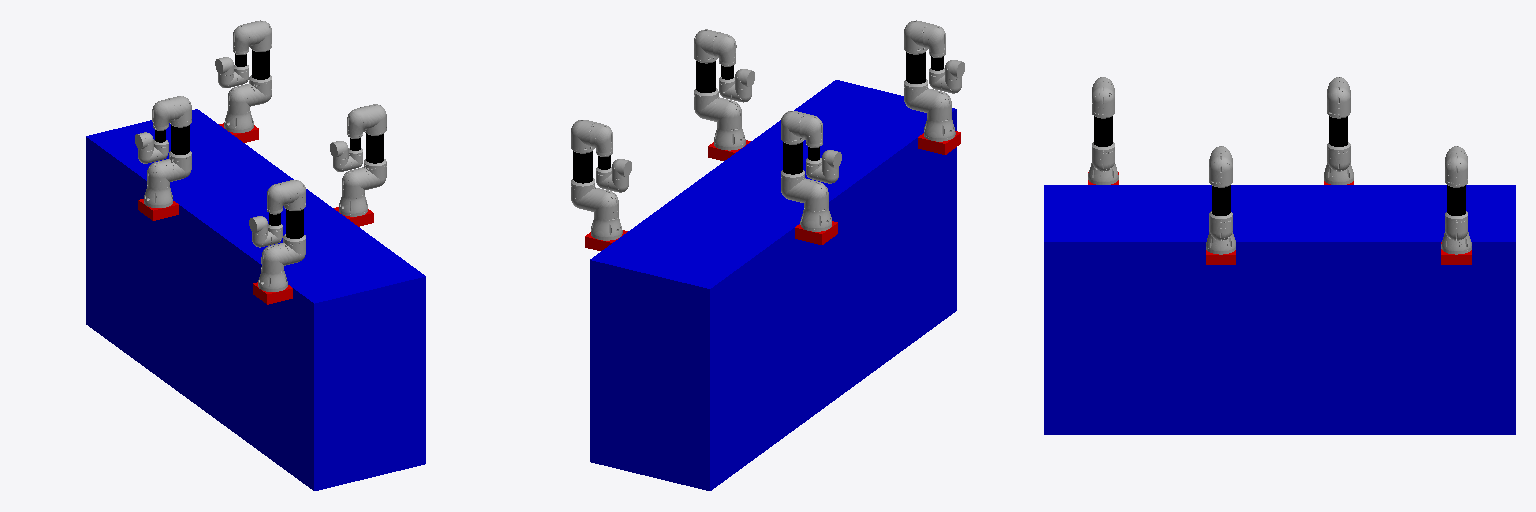
--- Render facts (derived) ---
Views: 3 orthographic renders of the robot side by side, from view 1: azimuth 30°, elevation 25°; view 2: azimuth 150°, elevation 25°; view 3: azimuth 270°, elevation 25°.
Model multiple_crisp with 50 links and 49 joints (24 revolute, 25 fixed), rooted at world, posed all joints at 0.
Visible links, largest first — view 1: conveyor, crisp_2_shoulder_link, crisp_3_shoulder_link, crisp_4_shoulder_link, crisp_1_shoulder_link, crisp_2_elbow_link, crisp_3_elbow_link, crisp_1_elbow_link, crisp_4_elbow_link, crisp_4_base_link, crisp_3_elbow_bend, crisp_1_base_link (+5 smaller); view 2: conveyor, crisp_4_shoulder_link, crisp_3_shoulder_link, crisp_2_shoulder_link, crisp_1_shoulder_link, crisp_1_elbow_link, crisp_2_elbow_link, crisp_4_elbow_link, crisp_3_elbow_link, crisp_3_base_link, crisp_1_base_link, crisp_2_base_link (+11 smaller); view 3: conveyor, crisp_2_elbow_link, crisp_3_elbow_link, crisp_1_elbow_link, crisp_4_elbow_link, crisp_2_shoulder_bend, crisp_3_shoulder_bend, crisp_1_shoulder_bend, crisp_4_shoulder_bend, crisp_3_tube1, crisp_4_tube1, crisp_1_tube1 (+1 smaller).
Link boxes in pixels (left/top/right/bottom): conveyor: left=86, top=109, right=425, bottom=490; crisp_2_shoulder_link: left=342, top=167, right=370, bottom=196; crisp_3_shoulder_link: left=147, top=159, right=175, bottom=187; crisp_4_shoulder_link: left=261, top=243, right=290, bottom=271; crisp_1_shoulder_link: left=228, top=84, right=256, bottom=112; crisp_2_elbow_link: left=360, top=104, right=386, bottom=135; crisp_3_elbow_link: left=168, top=96, right=191, bottom=127; crisp_1_elbow_link: left=247, top=20, right=271, bottom=51; crisp_4_elbow_link: left=282, top=180, right=305, bottom=210; crisp_4_base_link: left=258, top=267, right=287, bottom=291; crisp_3_elbow_bend: left=152, top=99, right=173, bottom=130; crisp_1_base_link: left=224, top=110, right=253, bottom=132; conveyor: left=590, top=80, right=956, bottom=490; crisp_4_shoulder_link: left=921, top=89, right=951, bottom=119; crisp_3_shoulder_link: left=797, top=179, right=828, bottom=209; crisp_2_shoulder_link: left=711, top=97, right=741, bottom=128; crisp_1_shoulder_link: left=588, top=188, right=618, bottom=218; crisp_1_elbow_link: left=571, top=120, right=596, bottom=153; crisp_2_elbow_link: left=694, top=29, right=720, bottom=63; crisp_4_elbow_link: left=904, top=20, right=929, bottom=54; crisp_3_elbow_link: left=781, top=111, right=805, bottom=144; crisp_3_base_link: left=800, top=206, right=831, bottom=231; crisp_1_base_link: left=591, top=215, right=622, bottom=240; crisp_2_base_link: left=714, top=124, right=745, bottom=150; conveyor: left=1044, top=185, right=1515, bottom=434; crisp_2_elbow_link: left=1209, top=150, right=1232, bottom=187; crisp_3_elbow_link: left=1327, top=81, right=1350, bottom=118; crisp_1_elbow_link: left=1445, top=150, right=1467, bottom=187; crisp_4_elbow_link: left=1092, top=81, right=1114, bottom=118; crisp_2_shoulder_bend: left=1209, top=211, right=1232, bottom=240; crisp_3_shoulder_bend: left=1327, top=142, right=1350, bottom=171; crisp_1_shoulder_bend: left=1445, top=211, right=1467, bottom=240; crisp_4_shoulder_bend: left=1092, top=142, right=1114, bottom=171; crisp_3_tube1: left=1329, top=116, right=1347, bottom=146; crisp_4_tube1: left=1094, top=116, right=1112, bottom=146; crisp_1_tube1: left=1447, top=185, right=1465, bottom=215.
Size in the robot's own frame: 0.9549 by 2 by 1.39 metres.
Meshes: 11 distinct files referenced, 40 mesh visuals loaded (10 binary STL); not drawn: 4 (reference not matched to a file when rendering).

The robot description file, URDF, robot "multiple_crisp":
<?xml version="1.0" ?>
<!-- =================================================================================== -->
<!-- |    This document was autogenerated by xacro from [local-path]/workspaces/catkin_ws_2/src/multiple_arm_description/urdf/multiple_crisp.urdf.xacro | -->
<!-- |    EDITING THIS FILE BY HAND IS NOT RECOMMENDED                                 | -->
<!-- =================================================================================== -->
<robot name="multiple_crisp">
    // Include urdf.xacro from respective description packages of arms
    <material name="silver">
        <color rgba="0.700 0.700 0.700 1.000" />
    </material>
    <material name="black">
        <color rgba="0.0 0.0 0.0 1.000" />
    </material>
    <!-- <xacro:include filename="$(find robotiq_85_description)/urdf/robotiq_85_gripper.urdf.xacro" /> -->
    // Specify Proper Prefix names for understanding of different arms.
    <!-- params="prefix joint_limited
      shoulder_pan_lower_limit:=${-pi}    shoulder_pan_upper_limit:=${pi}
      shoulder_lift_lower_limit:=${-pi}    shoulder_lift_upper_limit:=${pi}
      elbow_joint_lower_limit:=${-pi}    elbow_joint_upper_limit:=${pi}
      wrist_1_lower_limit:=${-pi}    wrist_1_upper_limit:=${pi}
      wrist_2_lower_limit:=${-pi}    wrist_2_upper_limit:=${pi}
      wrist_3_lower_limit:=${-pi}    wrist_3_upper_limit:=${pi}
      transmission_hw_interface:=hardware_interface/PositionJointInterface
      safety_limits:=false safety_pos_margin:=0.15
      safety_k_position:=20"> -->
    <link name="crisp_1_base_link">
        <inertial>
            <origin rpy="0 0 0" xyz="0.0001603944729273711 -0.0003290623427609323 0.040147411165435416" />
            <mass value="0.6779611564550755" />
            <inertia ixx="0.001015" ixy="1e-06" ixz="0.0" iyy="0.001028" iyz="-2e-06" izz="0.001154" />
        </inertial>
        <visual>
            <origin rpy="0 0 0" xyz="0 0 0" />
            <geometry>
                <mesh filename="package://crisp_description/meshes/base_link.stl" scale="0.001 0.001 0.001" />
            </geometry>
            <material name="silver" />
        </visual>
        <collision>
            <origin rpy="0 0 0" xyz="0 0 0" />
            <geometry>
                <mesh filename="package://crisp_description/meshes/base_link.stl" scale="0.001 0.001 0.001" />
            </geometry>
        </collision>
    </link>
    <link name="crisp_1_shoulder_link">
        <inertial>
            <origin rpy="0 0 0" xyz="4.0011390054304076e-06 -0.00961982769835694 0.045447590610113775" />
            <mass value="0.4336022449379255" />
            <inertia ixx="0.000648" ixy="-0.0" ixz="-1e-06" iyy="0.000565" iyz="4.1e-05" izz="0.000631" />
        </inertial>
        <visual>
            <origin rpy="0 0 0" xyz="-0.000152 4.1e-05 -0.09" />
            <geometry>
                <mesh filename="package://crisp_description/meshes/shoulder_link.stl" scale="0.001 0.001 0.001" />
            </geometry>
            <material name="silver" />
        </visual>
        <collision>
            <origin rpy="0 0 0" xyz="-0.000152 4.1e-05 -0.09" />
            <geometry>
                <mesh filename="package://crisp_description/meshes/shoulder_link.stl" scale="0.001 0.001 0.001" />
            </geometry>
        </collision>
    </link>
    <link name="crisp_1_shoulder_bend">
        <inertial>
            <origin rpy="0 0 0" xyz="-3.977242232601117e-06 -0.045711629373503385 0.012907149486671848" />
            <mass value="0.24798358553552216" />
            <inertia ixx="0.000406" ixy="-1e-06" ixz="-0.0" iyy="0.000397" iyz="2.6e-05" izz="0.00033" />
        </inertial>
        <visual>
            <origin rpy="0 0 0" xyz="-0.000152 0.060041 -0.14" />
            <geometry>
                <mesh filename="package://crisp_description/meshes/shoulder_bend.stl" scale="0.001 0.001 0.001" />
            </geometry>
            <material name="silver" />
        </visual>
        <collision>
            <origin rpy="0 0 0" xyz="-0.000152 0.060041 -0.14" />
            <geometry>
                <mesh filename="package://crisp_description/meshes/shoulder_bend.stl" scale="0.001 0.001 0.001" />
            </geometry>
        </collision>
    </link>
    <link name="crisp_1_tube1">
        <inertial>
            <origin rpy="0 0 0" xyz="-1.218023921678265e-07 4.832804545162883e-07 0.08400037920452025" />
            <mass value="0.1359760217281118" />
            <inertia ixx="0.000423" ixy="-0.0" ixz="0.0" iyy="0.000423" iyz="0.0" izz="0.000207" />
        </inertial>
        <visual>
            <origin rpy="0 0 0" xyz="-0.000152 0.110042 -0.202" />
            <geometry>
                <mesh filename="package://crisp_description/meshes/tube1.stl" scale="0.001 0.001 0.001" />
            </geometry>
            <material name="black" />
        </visual>
        <collision>
            <origin rpy="0 0 0" xyz="-0.000152 0.110042 -0.202" />
            <geometry>
                <mesh filename="package://crisp_description/meshes/tube1.stl" scale="0.001 0.001 0.001" />
            </geometry>
        </collision>
    </link>
    <link name="crisp_1_elbow_link">
        <inertial>
            <origin rpy="0 0 0" xyz="-3.6405482122238116e-06 0.00835316151743537 0.05001631857596067" />
            <mass value="0.5160292603397482" />
            <inertia ixx="0.000905" ixy="1e-06" ixz="1e-06" iyy="0.000814" iyz="-7.4e-05" izz="0.000756" />
        </inertial>
        <visual>
            <origin rpy="0 0 0" xyz="-0.000152 0.110042 -0.37" />
            <geometry>
                <mesh filename="package://crisp_description/meshes/elbow_link.stl" scale="0.001 0.001 0.001" />
            </geometry>
            <material name="silver" />
        </visual>
        <collision>
            <origin rpy="0 0 0" xyz="-0.000152 0.110042 -0.37" />
            <geometry>
                <mesh filename="package://crisp_description/meshes/elbow_link.stl" scale="0.001 0.001 0.001" />
            </geometry>
        </collision>
    </link>
    <link name="crisp_1_elbow_bend">
        <inertial>
            <origin rpy="0 0 0" xyz="-4.075344323087168e-05 0.03327969273841646 -0.01030636733035839" />
            <mass value="0.16999673358161876" />
            <inertia ixx="0.000221" ixy="-0.0" ixz="0.0" iyy="0.000236" iyz="1.7e-05" izz="0.000146" />
        </inertial>
        <visual>
            <origin rpy="0 0 0" xyz="-0.000152 0.050041 -0.431801" />
            <geometry>
                <mesh filename="package://crisp_description/meshes/elbow_bend.stl" scale="0.001 0.001 0.001" />
            </geometry>
            <material name="silver" />
        </visual>
        <collision>
            <origin rpy="0 0 0" xyz="-0.000152 0.050041 -0.431801" />
            <geometry>
                <mesh filename="package://crisp_description/meshes/elbow_bend.stl" scale="0.001 0.001 0.001" />
            </geometry>
        </collision>
    </link>
    <link name="crisp_1_tube2">
        <inertial>
            <origin rpy="0 0 0" xyz="3.31534666480639e-07 -2.8192269833048067e-07 -0.04549993912254768" />
            <mass value="0.035999481079213504" />
            <inertia ixx="3.5e-05" ixy="0.0" ixz="0.0" iyy="3.5e-05" iyz="0.0" izz="2.1e-05" />
        </inertial>
        <visual>
            <origin rpy="0 0 0" xyz="-0.000111 0.010041 -0.37059" />
            <geometry>
                <mesh filename="package://crisp_description/meshes/tube2.stl" scale="0.001 0.001 0.001" />
            </geometry>
            <material name="black" />
        </visual>
        <collision>
            <origin rpy="0 0 0" xyz="-0.000111 0.010041 -0.37059" />
            <geometry>
                <mesh filename="package://crisp_description/meshes/tube2.stl" scale="0.001 0.001 0.001" />
            </geometry>
        </collision>
    </link>
    <link name="crisp_1_wrist_link1">
        <inertial>
            <origin rpy="0 0 0" xyz="3.272677325775889e-07 0.0029345319652001097 -0.03169306675776801" />
            <mass value="0.2120397644725218" />
            <inertia ixx="0.000175" ixy="-0.0" ixz="0.0" iyy="0.00017" iyz="1.1e-05" izz="0.000139" />
        </inertial>
        <visual>
            <origin rpy="0 0 0" xyz="-0.000111 0.010041 -0.27959" />
            <geometry>
                <mesh filename="package://crisp_description/meshes/wrist_link1.stl" scale="0.001 0.001 0.001" />
            </geometry>
            <material name="silver" />
        </visual>
        <collision>
            <origin rpy="0 0 0" xyz="-0.000111 0.010041 -0.27959" />
            <geometry>
                <mesh filename="package://crisp_description/meshes/wrist_link1.stl" scale="0.001 0.001 0.001" />
            </geometry>
        </collision>
    </link>
    <link name="crisp_1_wrist_link2">
        <inertial>
            <origin rpy="0 0 0" xyz="3.2681919059462765e-07 0.034243790458059184 0.003213444605775856" />
            <mass value="0.17601570721446155" />
            <inertia ixx="0.000126" ixy="0.0" ixz="-0.0" iyy="0.000112" iyz="-8e-06" izz="0.000122" />
        </inertial>
        <visual>
            <origin rpy="0 0 0" xyz="-0.000111 -0.024859 -0.23859" />
            <geometry>
                <mesh filename="package://crisp_description/meshes/wrist_link2.stl" scale="0.001 0.001 0.001" />
            </geometry>
            <material name="silver" />
        </visual>
        <collision>
            <origin rpy="0 0 0" xyz="-0.000111 -0.024859 -0.23859" />
            <geometry>
                <mesh filename="package://crisp_description/meshes/wrist_link2.stl" scale="0.001 0.001 0.001" />
            </geometry>
        </collision>
    </link>
    <link name="crisp_1_wrist_link3">
        <inertial>
            <origin rpy="0 0 0" xyz="3.328659660357594e-07 0.003213090953286188 0.03424415588268198" />
            <mass value="0.17601599196961085" />
            <inertia ixx="0.000126" ixy="0.0" ixz="-0.0" iyy="0.000122" iyz="-8e-06" izz="0.000112" />
        </inertial>
        <visual>
            <origin rpy="0 0 0" xyz="-0.000111 -0.064859 -0.27349" />
            <geometry>
                <mesh filename="package://crisp_description/meshes/wrist_link3.stl" scale="0.001 0.001 0.001" />
            </geometry>
            <material name="silver" />
        </visual>
        <collision>
            <origin rpy="0 0 0" xyz="-0.000111 -0.064859 -0.27349" />
            <geometry>
                <mesh filename="package://crisp_description/meshes/wrist_link3.stl" scale="0.001 0.001 0.001" />
            </geometry>
        </collision>
    </link>
    <link name="crisp_1_ee_mount">
        <inertial>
            <origin rpy="0 0 0" xyz="3.3153611991382443e-07 0.0048156835739818354 6.80155745613753e-08" />
            <mass value="0.025997600599102062" />
            <inertia ixx="9e-06" ixy="0.0" ixz="-0.0" iyy="1.7e-05" iyz="0.0" izz="8e-06" />
        </inertial>
        <visual>
            <origin rpy="0 0 0" xyz="-0.000111 -0.099859 -0.31349" />
            <geometry>
                <mesh filename="package://crisp_description/meshes/ee_mount.stl" scale="0.001 0.001 0.001" />
            </geometry>
            <material name="silver" />
        </visual>
        <collision>
            <origin rpy="0 0 0" xyz="-0.000111 -0.099859 -0.31349" />
            <geometry>
                <mesh filename="package://crisp_description/meshes/ee_mount.stl" scale="0.001 0.001 0.001" />
            </geometry>
        </collision>
    </link>
    <joint name="crisp_1_j1" type="revolute">
        <origin rpy="0 0 0" xyz="0.000152 -4.1e-05 0.09" />
        <parent link="crisp_1_base_link" />
        <child link="crisp_1_shoulder_link" />
        <axis xyz="0.0 0.0 1.0" />
        <limit effort="9.2" lower="-6.283185307179586" upper="6.283185307179586" velocity="3.5" />
    </joint>
    <joint name="crisp_1_j2" type="revolute">
        <origin rpy="0 0 0" xyz="0.0 -0.06 0.05" />
        <parent link="crisp_1_shoulder_link" />
        <child link="crisp_1_shoulder_bend" />
        <axis xyz="0.0 -1.0 -0.0" />
        <limit effort="9.2" lower="-6.283185307179586" upper="6.283185307179586" velocity="3.5" />
    </joint>
    <joint name="crisp_1_Rigid 5" type="fixed">
        <origin rpy="0 0 0" xyz="0.0 -0.050001 0.062" />
        <parent link="crisp_1_shoulder_bend" />
        <child link="crisp_1_tube1" />
    </joint>
    <joint name="crisp_1_Rigid 6" type="fixed">
        <origin rpy="0 0 0" xyz="0.0 0.0 0.168" />
        <parent link="crisp_1_tube1" />
        <child link="crisp_1_elbow_link" />
    </joint>
    <joint name="crisp_1_j3" type="revolute">
        <origin rpy="0 0 0" xyz="0.0 0.060001 0.061801" />
        <parent link="crisp_1_elbow_link" />
        <child link="crisp_1_elbow_bend" />
        <axis xyz="-0.0 1.0 0.0" />
        <limit effort="9.2" lower="-6.283185307179586" upper="6.283185307179586" velocity="3.5" />
    </joint>
    <joint name="crisp_1_Rigid 8" type="fixed">
        <origin rpy="0 0 0" xyz="-4.1e-05 0.04 -0.061211" />
        <parent link="crisp_1_elbow_bend" />
        <child link="crisp_1_tube2" />
    </joint>
    <joint name="crisp_1_Rigid 9" type="fixed">
        <origin rpy="0 0 0" xyz="0.0 0.0 -0.091" />
        <parent link="crisp_1_tube2" />
        <child link="crisp_1_wrist_link1" />
    </joint>
    <joint name="crisp_1_j4" type="revolute">
        <origin rpy="0 0 0" xyz="0.0 0.0349 -0.041" />
        <parent link="crisp_1_wrist_link1" />
        <child link="crisp_1_wrist_link2" />
        <axis xyz="-0.0 1.0 0.0" />
        <limit effort="3.3" lower="-6.283185307179586" upper="6.283185307179586" velocity="3.2" />
    </joint>
    <joint name="crisp_1_j5" type="revolute">
        <origin rpy="0 0 0" xyz="0.0 0.04 0.0349" />
        <parent link="crisp_1_wrist_link2" />
        <child link="crisp_1_wrist_link3" />
        <axis xyz="-0.0 0.0 1.0" />
        <limit effort="3.3" lower="-6.283185307179586" upper="6.283185307179586" velocity="3.2" />
    </joint>
    <joint name="crisp_1_j6" type="revolute">
        <origin rpy="0 0 0" xyz="0.0 0.035 0.04" />
        <parent link="crisp_1_wrist_link3" />
        <child link="crisp_1_ee_mount" />
        <axis xyz="-0.0 -1.0 -0.0" />
        <limit effort="3.3" lower="-6.283185307179586" upper="6.283185307179586" velocity="3.2" />
    </joint>
    <!-- params="prefix joint_limited
      shoulder_pan_lower_limit:=${-pi}    shoulder_pan_upper_limit:=${pi}
      shoulder_lift_lower_limit:=${-pi}    shoulder_lift_upper_limit:=${pi}
      elbow_joint_lower_limit:=${-pi}    elbow_joint_upper_limit:=${pi}
      wrist_1_lower_limit:=${-pi}    wrist_1_upper_limit:=${pi}
      wrist_2_lower_limit:=${-pi}    wrist_2_upper_limit:=${pi}
      wrist_3_lower_limit:=${-pi}    wrist_3_upper_limit:=${pi}
      transmission_hw_interface:=hardware_interface/PositionJointInterface
      safety_limits:=false safety_pos_margin:=0.15
      safety_k_position:=20"> -->
    <link name="crisp_2_base_link">
        <inertial>
            <origin rpy="0 0 0" xyz="0.0001603944729273711 -0.0003290623427609323 0.040147411165435416" />
            <mass value="0.6779611564550755" />
            <inertia ixx="0.001015" ixy="1e-06" ixz="0.0" iyy="0.001028" iyz="-2e-06" izz="0.001154" />
        </inertial>
        <visual>
            <origin rpy="0 0 0" xyz="0 0 0" />
            <geometry>
                <mesh filename="package://crisp_description/meshes/base_link.stl" scale="0.001 0.001 0.001" />
            </geometry>
            <material name="silver" />
        </visual>
        <collision>
            <origin rpy="0 0 0" xyz="0 0 0" />
            <geometry>
                <mesh filename="package://crisp_description/meshes/base_link.stl" scale="0.001 0.001 0.001" />
            </geometry>
        </collision>
    </link>
    <link name="crisp_2_shoulder_link">
        <inertial>
            <origin rpy="0 0 0" xyz="4.0011390054304076e-06 -0.00961982769835694 0.045447590610113775" />
            <mass value="0.4336022449379255" />
            <inertia ixx="0.000648" ixy="-0.0" ixz="-1e-06" iyy="0.000565" iyz="4.1e-05" izz="0.000631" />
        </inertial>
        <visual>
            <origin rpy="0 0 0" xyz="-0.000152 4.1e-05 -0.09" />
            <geometry>
                <mesh filename="package://crisp_description/meshes/shoulder_link.stl" scale="0.001 0.001 0.001" />
            </geometry>
            <material name="silver" />
        </visual>
        <collision>
            <origin rpy="0 0 0" xyz="-0.000152 4.1e-05 -0.09" />
            <geometry>
                <mesh filename="package://crisp_description/meshes/shoulder_link.stl" scale="0.001 0.001 0.001" />
            </geometry>
        </collision>
    </link>
    <link name="crisp_2_shoulder_bend">
        <inertial>
            <origin rpy="0 0 0" xyz="-3.977242232601117e-06 -0.045711629373503385 0.012907149486671848" />
            <mass value="0.24798358553552216" />
            <inertia ixx="0.000406" ixy="-1e-06" ixz="-0.0" iyy="0.000397" iyz="2.6e-05" izz="0.00033" />
        </inertial>
        <visual>
            <origin rpy="0 0 0" xyz="-0.000152 0.060041 -0.14" />
            <geometry>
                <mesh filename="package://crisp_description/meshes/shoulder_bend.stl" scale="0.001 0.001 0.001" />
            </geometry>
            <material name="silver" />
        </visual>
        <collision>
            <origin rpy="0 0 0" xyz="-0.000152 0.060041 -0.14" />
            <geometry>
                <mesh filename="package://crisp_description/meshes/shoulder_bend.stl" scale="0.001 0.001 0.001" />
            </geometry>
        </collision>
    </link>
    <link name="crisp_2_tube1">
        <inertial>
            <origin rpy="0 0 0" xyz="-1.218023921678265e-07 4.832804545162883e-07 0.08400037920452025" />
            <mass value="0.1359760217281118" />
            <inertia ixx="0.000423" ixy="-0.0" ixz="0.0" iyy="0.000423" iyz="0.0" izz="0.000207" />
        </inertial>
        <visual>
            <origin rpy="0 0 0" xyz="-0.000152 0.110042 -0.202" />
            <geometry>
                <mesh filename="package://crisp_description/meshes/tube1.stl" scale="0.001 0.001 0.001" />
            </geometry>
            <material name="black" />
        </visual>
        <collision>
            <origin rpy="0 0 0" xyz="-0.000152 0.110042 -0.202" />
            <geometry>
                <mesh filename="package://crisp_description/meshes/tube1.stl" scale="0.001 0.001 0.001" />
            </geometry>
        </collision>
    </link>
    <link name="crisp_2_elbow_link">
        <inertial>
            <origin rpy="0 0 0" xyz="-3.6405482122238116e-06 0.00835316151743537 0.05001631857596067" />
            <mass value="0.5160292603397482" />
            <inertia ixx="0.000905" ixy="1e-06" ixz="1e-06" iyy="0.000814" iyz="-7.4e-05" izz="0.000756" />
        </inertial>
        <visual>
            <origin rpy="0 0 0" xyz="-0.000152 0.110042 -0.37" />
            <geometry>
                <mesh filename="package://crisp_description/meshes/elbow_link.stl" scale="0.001 0.001 0.001" />
            </geometry>
            <material name="silver" />
        </visual>
        <collision>
            <origin rpy="0 0 0" xyz="-0.000152 0.110042 -0.37" />
            <geometry>
                <mesh filename="package://crisp_description/meshes/elbow_link.stl" scale="0.001 0.001 0.001" />
            </geometry>
        </collision>
    </link>
    <link name="crisp_2_elbow_bend">
        <inertial>
            <origin rpy="0 0 0" xyz="-4.075344323087168e-05 0.03327969273841646 -0.01030636733035839" />
            <mass value="0.16999673358161876" />
            <inertia ixx="0.000221" ixy="-0.0" ixz="0.0" iyy="0.000236" iyz="1.7e-05" izz="0.000146" />
        </inertial>
        <visual>
            <origin rpy="0 0 0" xyz="-0.000152 0.050041 -0.431801" />
            <geometry>
                <mesh filename="package://crisp_description/meshes/elbow_bend.stl" scale="0.001 0.001 0.001" />
            </geometry>
            <material name="silver" />
        </visual>
        <collision>
            <origin rpy="0 0 0" xyz="-0.000152 0.050041 -0.431801" />
            <geometry>
                <mesh filename="package://crisp_description/meshes/elbow_bend.stl" scale="0.001 0.001 0.001" />
            </geometry>
        </collision>
    </link>
    <link name="crisp_2_tube2">
        <inertial>
            <origin rpy="0 0 0" xyz="3.31534666480639e-07 -2.8192269833048067e-07 -0.04549993912254768" />
            <mass value="0.035999481079213504" />
            <inertia ixx="3.5e-05" ixy="0.0" ixz="0.0" iyy="3.5e-05" iyz="0.0" izz="2.1e-05" />
        </inertial>
        <visual>
            <origin rpy="0 0 0" xyz="-0.000111 0.010041 -0.37059" />
            <geometry>
                <mesh filename="package://crisp_description/meshes/tube2.stl" scale="0.001 0.001 0.001" />
            </geometry>
            <material name="black" />
        </visual>
        <collision>
            <origin rpy="0 0 0" xyz="-0.000111 0.010041 -0.37059" />
            <geometry>
                <mesh filename="package://crisp_description/meshes/tube2.stl" scale="0.001 0.001 0.001" />
            </geometry>
        </collision>
    </link>
    <link name="crisp_2_wrist_link1">
        <inertial>
            <origin rpy="0 0 0" xyz="3.272677325775889e-07 0.0029345319652001097 -0.03169306675776801" />
            <mass value="0.2120397644725218" />
            <inertia ixx="0.000175" ixy="-0.0" ixz="0.0" iyy="0.00017" iyz="1.1e-05" izz="0.000139" />
        </inertial>
        <visual>
            <origin rpy="0 0 0" xyz="-0.000111 0.010041 -0.27959" />
            <geometry>
                <mesh filename="package://crisp_description/meshes/wrist_link1.stl" scale="0.001 0.001 0.001" />
            </geometry>
            <material name="silver" />
        </visual>
        <collision>
            <origin rpy="0 0 0" xyz="-0.000111 0.010041 -0.27959" />
            <geometry>
                <mesh filename="package://crisp_description/meshes/wrist_link1.stl" scale="0.001 0.001 0.001" />
            </geometry>
        </collision>
    </link>
    <link name="crisp_2_wrist_link2">
        <inertial>
            <origin rpy="0 0 0" xyz="3.2681919059462765e-07 0.034243790458059184 0.003213444605775856" />
            <mass value="0.17601570721446155" />
            <inertia ixx="0.000126" ixy="0.0" ixz="-0.0" iyy="0.000112" iyz="-8e-06" izz="0.000122" />
        </inertial>
        <visual>
            <origin rpy="0 0 0" xyz="-0.000111 -0.024859 -0.23859" />
            <geometry>
                <mesh filename="package://crisp_description/meshes/wrist_link2.stl" scale="0.001 0.001 0.001" />
            </geometry>
            <material name="silver" />
        </visual>
        <collision>
            <origin rpy="0 0 0" xyz="-0.000111 -0.024859 -0.23859" />
            <geometry>
                <mesh filename="package://crisp_description/meshes/wrist_link2.stl" scale="0.001 0.001 0.001" />
            </geometry>
        </collision>
    </link>
    <link name="crisp_2_wrist_link3">
        <inertial>
            <origin rpy="0 0 0" xyz="3.328659660357594e-07 0.003213090953286188 0.03424415588268198" />
            <mass value="0.17601599196961085" />
            <inertia ixx="0.000126" ixy="0.0" ixz="-0.0" iyy="0.000122" iyz="-8e-06" izz="0.000112" />
        </inertial>
        <visual>
            <origin rpy="0 0 0" xyz="-0.000111 -0.064859 -0.27349" />
            <geometry>
                <mesh filename="package://crisp_description/meshes/wrist_link3.stl" scale="0.001 0.001 0.001" />
            </geometry>
            <material name="silver" />
        </visual>
        <collision>
            <origin rpy="0 0 0" xyz="-0.000111 -0.064859 -0.27349" />
            <geometry>
                <mesh filename="package://crisp_description/meshes/wrist_link3.stl" scale="0.001 0.001 0.001" />
            </geometry>
        </collision>
    </link>
    <link name="crisp_2_ee_mount">
        <inertial>
            <origin rpy="0 0 0" xyz="3.3153611991382443e-07 0.0048156835739818354 6.80155745613753e-08" />
            <mass value="0.025997600599102062" />
            <inertia ixx="9e-06" ixy="0.0" ixz="-0.0" iyy="1.7e-05" iyz="0.0" izz="8e-06" />
        </inertial>
        <visual>
            <origin rpy="0 0 0" xyz="-0.000111 -0.099859 -0.31349" />
            <geometry>
                <mesh filename="package://crisp_description/meshes/ee_mount.stl" scale="0.001 0.001 0.001" />
            </geometry>
            <material name="silver" />
        </visual>
        <collision>
            <origin rpy="0 0 0" xyz="-0.000111 -0.099859 -0.31349" />
            <geometry>
                <mesh filename="package://crisp_description/meshes/ee_mount.stl" scale="0.001 0.001 0.001" />
            </geometry>
        </collision>
    </link>
    <joint name="crisp_2_j1" type="revolute">
        <origin rpy="0 0 0" xyz="0.000152 -4.1e-05 0.09" />
        <parent link="crisp_2_base_link" />
        <child link="crisp_2_shoulder_link" />
        <axis xyz="0.0 0.0 1.0" />
        <limit effort="9.2" lower="-6.283185307179586" upper="6.283185307179586" velocity="3.5" />
    </joint>
    <joint name="crisp_2_j2" type="revolute">
        <origin rpy="0 0 0" xyz="0.0 -0.06 0.05" />
        <parent link="crisp_2_shoulder_link" />
        <child link="crisp_2_shoulder_bend" />
        <axis xyz="0.0 -1.0 -0.0" />
        <limit effort="9.2" lower="-6.283185307179586" upper="6.283185307179586" velocity="3.5" />
    </joint>
    <joint name="crisp_2_Rigid 5" type="fixed">
        <origin rpy="0 0 0" xyz="0.0 -0.050001 0.062" />
        <parent link="crisp_2_shoulder_bend" />
        <child link="crisp_2_tube1" />
    </joint>
    <joint name="crisp_2_Rigid 6" type="fixed">
        <origin rpy="0 0 0" xyz="0.0 0.0 0.168" />
        <parent link="crisp_2_tube1" />
        <child link="crisp_2_elbow_link" />
    </joint>
    <joint name="crisp_2_j3" type="revolute">
        <origin rpy="0 0 0" xyz="0.0 0.060001 0.061801" />
        <parent link="crisp_2_elbow_link" />
        <child link="crisp_2_elbow_bend" />
        <axis xyz="-0.0 1.0 0.0" />
        <limit effort="9.2" lower="-6.283185307179586" upper="6.283185307179586" velocity="3.5" />
    </joint>
    <joint name="crisp_2_Rigid 8" type="fixed">
        <origin rpy="0 0 0" xyz="-4.1e-05 0.04 -0.061211" />
        <parent link="crisp_2_elbow_bend" />
        <child link="crisp_2_tube2" />
    </joint>
    <joint name="crisp_2_Rigid 9" type="fixed">
        <origin rpy="0 0 0" xyz="0.0 0.0 -0.091" />
        <parent link="crisp_2_tube2" />
        <child link="crisp_2_wrist_link1" />
    </joint>
    <joint name="crisp_2_j4" type="revolute">
        <origin rpy="0 0 0" xyz="0.0 0.0349 -0.041" />
        <parent link="crisp_2_wrist_link1" />
        <child link="crisp_2_wrist_link2" />
        <axis xyz="-0.0 1.0 0.0" />
        <limit effort="3.3" lower="-6.283185307179586" upper="6.283185307179586" velocity="3.2" />
    </joint>
    <joint name="crisp_2_j5" type="revolute">
        <origin rpy="0 0 0" xyz="0.0 0.04 0.0349" />
        <parent link="crisp_2_wrist_link2" />
        <child link="crisp_2_wrist_link3" />
        <axis xyz="-0.0 0.0 1.0" />
        <limit effort="3.3" lower="-6.283185307179586" upper="6.283185307179586" velocity="3.2" />
    </joint>
    <joint name="crisp_2_j6" type="revolute">
        <origin rpy="0 0 0" xyz="0.0 0.035 0.04" />
        <parent link="crisp_2_wrist_link3" />
        <child link="crisp_2_ee_mount" />
        <axis xyz="-0.0 -1.0 -0.0" />
        <limit effort="3.3" lower="-6.283185307179586" upper="6.283185307179586" velocity="3.2" />
    </joint>
    <!-- params="prefix joint_limited
      shoulder_pan_lower_limit:=${-pi}    shoulder_pan_upper_limit:=${pi}
      shoulder_lift_lower_limit:=${-pi}    shoulder_lift_upper_limit:=${pi}
      elbow_joint_lower_limit:=${-pi}    elbow_joint_upper_limit:=${pi}
      wrist_1_lower_limit:=${-pi}    wrist_1_upper_limit:=${pi}
      wrist_2_lower_limit:=${-pi}    wrist_2_upper_limit:=${pi}
      wrist_3_lower_limit:=${-pi}    wrist_3_upper_limit:=${pi}
      transmission_hw_interface:=hardware_interface/PositionJointInterface
      safety_limits:=false safety_pos_margin:=0.15
      safety_k_position:=20"> -->
    <link name="crisp_3_base_link">
        <inertial>
            <origin rpy="0 0 0" xyz="0.0001603944729273711 -0.0003290623427609323 0.040147411165435416" />
            <mass value="0.6779611564550755" />
            <inertia ixx="0.001015" ixy="1e-06" ixz="0.0" iyy="0.001028" iyz="-2e-06" izz="0.001154" />
        </inertial>
        <visual>
            <origin rpy="0 0 0" xyz="0 0 0" />
            <geometry>
                <mesh filename="package://crisp_description/meshes/base_link.stl" scale="0.001 0.001 0.001" />
            </geometry>
            <material name="silver" />
        </visual>
        <collision>
            <origin rpy="0 0 0" xyz="0 0 0" />
            <geometry>
                <mesh filename="package://crisp_description/meshes/base_link.stl" scale="0.001 0.001 0.001" />
            </geometry>
        </collision>
    </link>
    <link name="crisp_3_shoulder_link">
        <inertial>
            <origin rpy="0 0 0" xyz="4.0011390054304076e-06 -0.00961982769835694 0.045447590610113775" />
            <mass value="0.4336022449379255" />
            <inertia ixx="0.000648" ixy="-0.0" ixz="-1e-06" iyy="0.000565" iyz="4.1e-05" izz="0.000631" />
        </inertial>
        <visual>
            <origin rpy="0 0 0" xyz="-0.000152 4.1e-05 -0.09" />
            <geometry>
                <mesh filename="package://crisp_description/meshes/shoulder_link.stl" scale="0.001 0.001 0.001" />
            </geometry>
            <material name="silver" />
        </visual>
        <collision>
            <origin rpy="0 0 0" xyz="-0.000152 4.1e-05 -0.09" />
            <geometry>
                <mesh filename="package://crisp_description/meshes/shoulder_link.stl" scale="0.001 0.001 0.001" />
            </geometry>
        </collision>
    </link>
    <link name="crisp_3_shoulder_bend">
        <inertial>
            <origin rpy="0 0 0" xyz="-3.977242232601117e-06 -0.045711629373503385 0.012907149486671848" />
            <mass value="0.24798358553552216" />
            <inertia ixx="0.000406" ixy="-1e-06" ixz="-0.0" iyy="0.000397" iyz="2.6e-05" izz="0.00033" />
        </inertial>
        <visual>
            <origin rpy="0 0 0" xyz="-0.000152 0.060041 -0.14" />
            <geometry>
                <mesh filename="package://crisp_description/meshes/shoulder_bend.stl" scale="0.001 0.001 0.001" />
            </geometry>
            <material name="silver" />
        </visual>
        <collision>
            <origin rpy="0 0 0" xyz="-0.000152 0.060041 -0.14" />
            <geometry>
                <mesh filename="package://crisp_description/meshes/shoulder_bend.stl" scale="0.001 0.001 0.001" />
            </geometry>
        </collision>
    </link>
    <link name="crisp_3_tube1">
        <inertial>
            <origin rpy="0 0 0" xyz="-1.218023921678265e-07 4.832804545162883e-07 0.08400037920452025" />
            <mass value="0.1359760217281118" />
            <inertia ixx="0.000423" ixy="-0.0" ixz="0.0" iyy="0.000423" iyz="0.0" izz="0.000207" />
        </inertial>
        <visual>
            <origin rpy="0 0 0" xyz="-0.000152 0.110042 -0.202" />
            <geometry>
                <mesh filename="package://crisp_description/meshes/tube1.stl" scale="0.001 0.001 0.001" />
            </geometry>
            <material name="black" />
        </visual>
        <collision>
            <origin rpy="0 0 0" xyz="-0.000152 0.110042 -0.202" />
            <geometry>
                <mesh filename="package://crisp_description/meshes/tube1.stl" scale="0.001 0.001 0.001" />
            </geometry>
        </collision>
    </link>
    <link name="crisp_3_elbow_link">
        <inertial>
            <origin rpy="0 0 0" xyz="-3.6405482122238116e-06 0.00835316151743537 0.05001631857596067" />
            <mass value="0.5160292603397482" />
            <inertia ixx="0.000905" ixy="1e-06" ixz="1e-06" iyy="0.000814" iyz="-7.4e-05" izz="0.000756" />
        </inertial>
        <visual>
            <origin rpy="0 0 0" xyz="-0.000152 0.110042 -0.37" />
            <geometry>
                <mesh filename="package://crisp_description/meshes/elbow_link.stl" scale="0.001 0.001 0.001" />
            </geometry>
            <material name="silver" />
        </visual>
        <collision>
            <origin rpy="0 0 0" xyz="-0.000152 0.110042 -0.37" />
            <geometry>
                <mesh filename="package://crisp_description/meshes/elbow_link.stl" scale="0.001 0.001 0.001" />
            </geometry>
        </collision>
    </link>
    <link name="crisp_3_elbow_bend">
        <inertial>
            <origin rpy="0 0 0" xyz="-4.075344323087168e-05 0.03327969273841646 -0.01030636733035839" />
            <mass value="0.16999673358161876" />
            <inertia ixx="0.000221" ixy="-0.0" ixz="0.0" iyy="0.000236" iyz="1.7e-05" izz="0.000146" />
        </inertial>
        <visual>
            <origin rpy="0 0 0" xyz="-0.000152 0.050041 -0.431801" />
            <geometry>
                <mesh filename="package://crisp_description/meshes/elbow_bend.stl" scale="0.001 0.001 0.001" />
            </geometry>
            <material name="silver" />
        </visual>
        <collision>
            <origin rpy="0 0 0" xyz="-0.000152 0.050041 -0.431801" />
            <geometry>
                <mesh filename="package://crisp_description/meshes/elbow_bend.stl" scale="0.001 0.001 0.001" />
            </geometry>
        </collision>
    </link>
    <link name="crisp_3_tube2">
        <inertial>
            <origin rpy="0 0 0" xyz="3.31534666480639e-07 -2.8192269833048067e-07 -0.04549993912254768" />
            <mass value="0.035999481079213504" />
            <inertia ixx="3.5e-05" ixy="0.0" ixz="0.0" iyy="3.5e-05" iyz="0.0" izz="2.1e-05" />
        </inertial>
        <visual>
            <origin rpy="0 0 0" xyz="-0.000111 0.010041 -0.37059" />
            <geometry>
                <mesh filename="package://crisp_description/meshes/tube2.stl" scale="0.001 0.001 0.001" />
            </geometry>
            <material name="black" />
        </visual>
        <collision>
            <origin rpy="0 0 0" xyz="-0.000111 0.010041 -0.37059" />
            <geometry>
                <mesh filename="package://crisp_description/meshes/tube2.stl" scale="0.001 0.001 0.001" />
            </geometry>
        </collision>
    </link>
    <link name="crisp_3_wrist_link1">
        <inertial>
            <origin rpy="0 0 0" xyz="3.272677325775889e-07 0.0029345319652001097 -0.03169306675776801" />
            <mass value="0.2120397644725218" />
            <inertia ixx="0.000175" ixy="-0.0" ixz="0.0" iyy="0.00017" iyz="1.1e-05" izz="0.000139" />
        </inertial>
        <visual>
            <origin rpy="0 0 0" xyz="-0.000111 0.010041 -0.27959" />
            <geometry>
                <mesh filename="package://crisp_description/meshes/wrist_link1.stl" scale="0.001 0.001 0.001" />
            </geometry>
            <material name="silver" />
        </visual>
        <collision>
            <origin rpy="0 0 0" xyz="-0.000111 0.010041 -0.27959" />
            <geometry>
                <mesh filename="package://crisp_description/meshes/wrist_link1.stl" scale="0.001 0.001 0.001" />
            </geometry>
        </collision>
    </link>
    <link name="crisp_3_wrist_link2">
        <inertial>
            <origin rpy="0 0 0" xyz="3.2681919059462765e-07 0.034243790458059184 0.003213444605775856" />
            <mass value="0.17601570721446155" />
            <inertia ixx="0.000126" ixy="0.0" ixz="-0.0" iyy="0.000112" iyz="-8e-06" izz="0.000122" />
        </inertial>
        <visual>
            <origin rpy="0 0 0" xyz="-0.000111 -0.024859 -0.23859" />
            <geometry>
                <mesh filename="package://crisp_description/meshes/wrist_link2.stl" scale="0.001 0.001 0.001" />
            </geometry>
            <material name="silver" />
        </visual>
        <collision>
            <origin rpy="0 0 0" xyz="-0.000111 -0.024859 -0.23859" />
            <geometry>
                <mesh filename="package://crisp_description/meshes/wrist_link2.stl" scale="0.001 0.001 0.001" />
            </geometry>
        </collision>
    </link>
    <link name="crisp_3_wrist_link3">
        <inertial>
            <origin rpy="0 0 0" xyz="3.328659660357594e-07 0.003213090953286188 0.03424415588268198" />
            <mass value="0.17601599196961085" />
            <inertia ixx="0.000126" ixy="0.0" ixz="-0.0" iyy="0.000122" iyz="-8e-06" izz="0.000112" />
        </inertial>
        <visual>
            <origin rpy="0 0 0" xyz="-0.000111 -0.064859 -0.27349" />
            <geometry>
                <mesh filename="package://crisp_description/meshes/wrist_link3.stl" scale="0.001 0.001 0.001" />
            </geometry>
            <material name="silver" />
        </visual>
        <collision>
            <origin rpy="0 0 0" xyz="-0.000111 -0.064859 -0.27349" />
            <geometry>
                <mesh filename="package://crisp_description/meshes/wrist_link3.stl" scale="0.001 0.001 0.001" />
            </geometry>
        </collision>
    </link>
    <link name="crisp_3_ee_mount">
        <inertial>
            <origin rpy="0 0 0" xyz="3.3153611991382443e-07 0.0048156835739818354 6.80155745613753e-08" />
            <mass value="0.025997600599102062" />
            <inertia ixx="9e-06" ixy="0.0" ixz="-0.0" iyy="1.7e-05" iyz="0.0" izz="8e-06" />
        </inertial>
        <visual>
            <origin rpy="0 0 0" xyz="-0.000111 -0.099859 -0.31349" />
            <geometry>
                <mesh filename="package://crisp_description/meshes/ee_mount.stl" scale="0.001 0.001 0.001" />
            </geometry>
            <material name="silver" />
        </visual>
        <collision>
            <origin rpy="0 0 0" xyz="-0.000111 -0.099859 -0.31349" />
            <geometry>
                <mesh filename="package://crisp_description/meshes/ee_mount.stl" scale="0.001 0.001 0.001" />
            </geometry>
        </collision>
    </link>
    <joint name="crisp_3_j1" type="revolute">
        <origin rpy="0 0 0" xyz="0.000152 -4.1e-05 0.09" />
        <parent link="crisp_3_base_link" />
        <child link="crisp_3_shoulder_link" />
        <axis xyz="0.0 0.0 1.0" />
        <limit effort="9.2" lower="-6.283185307179586" upper="6.283185307179586" velocity="3.5" />
    </joint>
    <joint name="crisp_3_j2" type="revolute">
        <origin rpy="0 0 0" xyz="0.0 -0.06 0.05" />
        <parent link="crisp_3_shoulder_link" />
        <child link="crisp_3_shoulder_bend" />
        <axis xyz="0.0 -1.0 -0.0" />
        <limit effort="9.2" lower="-6.283185307179586" upper="6.283185307179586" velocity="3.5" />
    </joint>
    <joint name="crisp_3_Rigid 5" type="fixed">
        <origin rpy="0 0 0" xyz="0.0 -0.050001 0.062" />
        <parent link="crisp_3_shoulder_bend" />
        <child link="crisp_3_tube1" />
    </joint>
    <joint name="crisp_3_Rigid 6" type="fixed">
        <origin rpy="0 0 0" xyz="0.0 0.0 0.168" />
        <parent link="crisp_3_tube1" />
        <child link="crisp_3_elbow_link" />
    </joint>
    <joint name="crisp_3_j3" type="revolute">
        <origin rpy="0 0 0" xyz="0.0 0.060001 0.061801" />
        <parent link="crisp_3_elbow_link" />
        <child link="crisp_3_elbow_bend" />
        <axis xyz="-0.0 1.0 0.0" />
        <limit effort="9.2" lower="-6.283185307179586" upper="6.283185307179586" velocity="3.5" />
    </joint>
    <joint name="crisp_3_Rigid 8" type="fixed">
        <origin rpy="0 0 0" xyz="-4.1e-05 0.04 -0.061211" />
        <parent link="crisp_3_elbow_bend" />
        <child link="crisp_3_tube2" />
    </joint>
    <joint name="crisp_3_Rigid 9" type="fixed">
        <origin rpy="0 0 0" xyz="0.0 0.0 -0.091" />
        <parent link="crisp_3_tube2" />
        <child link="crisp_3_wrist_link1" />
    </joint>
    <joint name="crisp_3_j4" type="revolute">
        <origin rpy="0 0 0" xyz="0.0 0.0349 -0.041" />
        <parent link="crisp_3_wrist_link1" />
        <child link="crisp_3_wrist_link2" />
        <axis xyz="-0.0 1.0 0.0" />
        <limit effort="3.3" lower="-6.283185307179586" upper="6.283185307179586" velocity="3.2" />
    </joint>
    <joint name="crisp_3_j5" type="revolute">
        <origin rpy="0 0 0" xyz="0.0 0.04 0.0349" />
        <parent link="crisp_3_wrist_link2" />
        <child link="crisp_3_wrist_link3" />
        <axis xyz="-0.0 0.0 1.0" />
        <limit effort="3.3" lower="-6.283185307179586" upper="6.283185307179586" velocity="3.2" />
    </joint>
    <joint name="crisp_3_j6" type="revolute">
        <origin rpy="0 0 0" xyz="0.0 0.035 0.04" />
        <parent link="crisp_3_wrist_link3" />
        <child link="crisp_3_ee_mount" />
        <axis xyz="-0.0 -1.0 -0.0" />
        <limit effort="3.3" lower="-6.283185307179586" upper="6.283185307179586" velocity="3.2" />
    </joint>
    <!-- params="prefix joint_limited
      shoulder_pan_lower_limit:=${-pi}    shoulder_pan_upper_limit:=${pi}
      shoulder_lift_lower_limit:=${-pi}    shoulder_lift_upper_limit:=${pi}
      elbow_joint_lower_limit:=${-pi}    elbow_joint_upper_limit:=${pi}
      wrist_1_lower_limit:=${-pi}    wrist_1_upper_limit:=${pi}
      wrist_2_lower_limit:=${-pi}    wrist_2_upper_limit:=${pi}
      wrist_3_lower_limit:=${-pi}    wrist_3_upper_limit:=${pi}
      transmission_hw_interface:=hardware_interface/PositionJointInterface
      safety_limits:=false safety_pos_margin:=0.15
      safety_k_position:=20"> -->
    <link name="crisp_4_base_link">
        <inertial>
            <origin rpy="0 0 0" xyz="0.0001603944729273711 -0.0003290623427609323 0.040147411165435416" />
            <mass value="0.6779611564550755" />
            <inertia ixx="0.001015" ixy="1e-06" ixz="0.0" iyy="0.001028" iyz="-2e-06" izz="0.001154" />
        </inertial>
        <visual>
            <origin rpy="0 0 0" xyz="0 0 0" />
            <geometry>
                <mesh filename="package://crisp_description/meshes/base_link.stl" scale="0.001 0.001 0.001" />
            </geometry>
            <material name="silver" />
        </visual>
        <collision>
            <origin rpy="0 0 0" xyz="0 0 0" />
            <geometry>
                <mesh filename="package://crisp_description/meshes/base_link.stl" scale="0.001 0.001 0.001" />
            </geometry>
        </collision>
    </link>
    <link name="crisp_4_shoulder_link">
        <inertial>
            <origin rpy="0 0 0" xyz="4.0011390054304076e-06 -0.00961982769835694 0.045447590610113775" />
            <mass value="0.4336022449379255" />
            <inertia ixx="0.000648" ixy="-0.0" ixz="-1e-06" iyy="0.000565" iyz="4.1e-05" izz="0.000631" />
        </inertial>
        <visual>
            <origin rpy="0 0 0" xyz="-0.000152 4.1e-05 -0.09" />
            <geometry>
                <mesh filename="package://crisp_description/meshes/shoulder_link.stl" scale="0.001 0.001 0.001" />
            </geometry>
            <material name="silver" />
        </visual>
        <collision>
            <origin rpy="0 0 0" xyz="-0.000152 4.1e-05 -0.09" />
            <geometry>
                <mesh filename="package://crisp_description/meshes/shoulder_link.stl" scale="0.001 0.001 0.001" />
            </geometry>
        </collision>
    </link>
    <link name="crisp_4_shoulder_bend">
        <inertial>
            <origin rpy="0 0 0" xyz="-3.977242232601117e-06 -0.045711629373503385 0.012907149486671848" />
            <mass value="0.24798358553552216" />
            <inertia ixx="0.000406" ixy="-1e-06" ixz="-0.0" iyy="0.000397" iyz="2.6e-05" izz="0.00033" />
        </inertial>
        <visual>
            <origin rpy="0 0 0" xyz="-0.000152 0.060041 -0.14" />
            <geometry>
                <mesh filename="package://crisp_description/meshes/shoulder_bend.stl" scale="0.001 0.001 0.001" />
            </geometry>
            <material name="silver" />
        </visual>
        <collision>
            <origin rpy="0 0 0" xyz="-0.000152 0.060041 -0.14" />
            <geometry>
                <mesh filename="package://crisp_description/meshes/shoulder_bend.stl" scale="0.001 0.001 0.001" />
            </geometry>
        </collision>
    </link>
    <link name="crisp_4_tube1">
        <inertial>
            <origin rpy="0 0 0" xyz="-1.218023921678265e-07 4.832804545162883e-07 0.08400037920452025" />
            <mass value="0.1359760217281118" />
            <inertia ixx="0.000423" ixy="-0.0" ixz="0.0" iyy="0.000423" iyz="0.0" izz="0.000207" />
        </inertial>
        <visual>
            <origin rpy="0 0 0" xyz="-0.000152 0.110042 -0.202" />
            <geometry>
                <mesh filename="package://crisp_description/meshes/tube1.stl" scale="0.001 0.001 0.001" />
            </geometry>
            <material name="black" />
        </visual>
        <collision>
            <origin rpy="0 0 0" xyz="-0.000152 0.110042 -0.202" />
            <geometry>
                <mesh filename="package://crisp_description/meshes/tube1.stl" scale="0.001 0.001 0.001" />
            </geometry>
        </collision>
    </link>
    <link name="crisp_4_elbow_link">
        <inertial>
            <origin rpy="0 0 0" xyz="-3.6405482122238116e-06 0.00835316151743537 0.05001631857596067" />
            <mass value="0.5160292603397482" />
            <inertia ixx="0.000905" ixy="1e-06" ixz="1e-06" iyy="0.000814" iyz="-7.4e-05" izz="0.000756" />
        </inertial>
        <visual>
            <origin rpy="0 0 0" xyz="-0.000152 0.110042 -0.37" />
            <geometry>
                <mesh filename="package://crisp_description/meshes/elbow_link.stl" scale="0.001 0.001 0.001" />
            </geometry>
            <material name="silver" />
        </visual>
        <collision>
            <origin rpy="0 0 0" xyz="-0.000152 0.110042 -0.37" />
            <geometry>
                <mesh filename="package://crisp_description/meshes/elbow_link.stl" scale="0.001 0.001 0.001" />
            </geometry>
        </collision>
    </link>
    <link name="crisp_4_elbow_bend">
        <inertial>
            <origin rpy="0 0 0" xyz="-4.075344323087168e-05 0.03327969273841646 -0.01030636733035839" />
            <mass value="0.16999673358161876" />
            <inertia ixx="0.000221" ixy="-0.0" ixz="0.0" iyy="0.000236" iyz="1.7e-05" izz="0.000146" />
        </inertial>
        <visual>
            <origin rpy="0 0 0" xyz="-0.000152 0.050041 -0.431801" />
            <geometry>
                <mesh filename="package://crisp_description/meshes/elbow_bend.stl" scale="0.001 0.001 0.001" />
            </geometry>
            <material name="silver" />
        </visual>
        <collision>
            <origin rpy="0 0 0" xyz="-0.000152 0.050041 -0.431801" />
            <geometry>
                <mesh filename="package://crisp_description/meshes/elbow_bend.stl" scale="0.001 0.001 0.001" />
            </geometry>
        </collision>
    </link>
    <link name="crisp_4_tube2">
        <inertial>
            <origin rpy="0 0 0" xyz="3.31534666480639e-07 -2.8192269833048067e-07 -0.04549993912254768" />
            <mass value="0.035999481079213504" />
            <inertia ixx="3.5e-05" ixy="0.0" ixz="0.0" iyy="3.5e-05" iyz="0.0" izz="2.1e-05" />
        </inertial>
        <visual>
            <origin rpy="0 0 0" xyz="-0.000111 0.010041 -0.37059" />
            <geometry>
                <mesh filename="package://crisp_description/meshes/tube2.stl" scale="0.001 0.001 0.001" />
            </geometry>
            <material name="black" />
        </visual>
        <collision>
            <origin rpy="0 0 0" xyz="-0.000111 0.010041 -0.37059" />
            <geometry>
                <mesh filename="package://crisp_description/meshes/tube2.stl" scale="0.001 0.001 0.001" />
            </geometry>
        </collision>
    </link>
    <link name="crisp_4_wrist_link1">
        <inertial>
            <origin rpy="0 0 0" xyz="3.272677325775889e-07 0.0029345319652001097 -0.03169306675776801" />
            <mass value="0.2120397644725218" />
            <inertia ixx="0.000175" ixy="-0.0" ixz="0.0" iyy="0.00017" iyz="1.1e-05" izz="0.000139" />
        </inertial>
        <visual>
            <origin rpy="0 0 0" xyz="-0.000111 0.010041 -0.27959" />
            <geometry>
                <mesh filename="package://crisp_description/meshes/wrist_link1.stl" scale="0.001 0.001 0.001" />
            </geometry>
            <material name="silver" />
        </visual>
        <collision>
            <origin rpy="0 0 0" xyz="-0.000111 0.010041 -0.27959" />
            <geometry>
                <mesh filename="package://crisp_description/meshes/wrist_link1.stl" scale="0.001 0.001 0.001" />
            </geometry>
        </collision>
    </link>
    <link name="crisp_4_wrist_link2">
        <inertial>
            <origin rpy="0 0 0" xyz="3.2681919059462765e-07 0.034243790458059184 0.003213444605775856" />
            <mass value="0.17601570721446155" />
            <inertia ixx="0.000126" ixy="0.0" ixz="-0.0" iyy="0.000112" iyz="-8e-06" izz="0.000122" />
        </inertial>
        <visual>
            <origin rpy="0 0 0" xyz="-0.000111 -0.024859 -0.23859" />
            <geometry>
                <mesh filename="package://crisp_description/meshes/wrist_link2.stl" scale="0.001 0.001 0.001" />
            </geometry>
            <material name="silver" />
        </visual>
        <collision>
            <origin rpy="0 0 0" xyz="-0.000111 -0.024859 -0.23859" />
            <geometry>
                <mesh filename="package://crisp_description/meshes/wrist_link2.stl" scale="0.001 0.001 0.001" />
            </geometry>
        </collision>
    </link>
    <link name="crisp_4_wrist_link3">
        <inertial>
            <origin rpy="0 0 0" xyz="3.328659660357594e-07 0.003213090953286188 0.03424415588268198" />
            <mass value="0.17601599196961085" />
            <inertia ixx="0.000126" ixy="0.0" ixz="-0.0" iyy="0.000122" iyz="-8e-06" izz="0.000112" />
        </inertial>
        <visual>
            <origin rpy="0 0 0" xyz="-0.000111 -0.064859 -0.27349" />
            <geometry>
                <mesh filename="package://crisp_description/meshes/wrist_link3.stl" scale="0.001 0.001 0.001" />
            </geometry>
            <material name="silver" />
        </visual>
        <collision>
            <origin rpy="0 0 0" xyz="-0.000111 -0.064859 -0.27349" />
            <geometry>
                <mesh filename="package://crisp_description/meshes/wrist_link3.stl" scale="0.001 0.001 0.001" />
            </geometry>
        </collision>
    </link>
    <link name="crisp_4_ee_mount">
        <inertial>
            <origin rpy="0 0 0" xyz="3.3153611991382443e-07 0.0048156835739818354 6.80155745613753e-08" />
            <mass value="0.025997600599102062" />
            <inertia ixx="9e-06" ixy="0.0" ixz="-0.0" iyy="1.7e-05" iyz="0.0" izz="8e-06" />
        </inertial>
        <visual>
            <origin rpy="0 0 0" xyz="-0.000111 -0.099859 -0.31349" />
            <geometry>
                <mesh filename="package://crisp_description/meshes/ee_mount.stl" scale="0.001 0.001 0.001" />
            </geometry>
            <material name="silver" />
        </visual>
        <collision>
            <origin rpy="0 0 0" xyz="-0.000111 -0.099859 -0.31349" />
            <geometry>
                <mesh filename="package://crisp_description/meshes/ee_mount.stl" scale="0.001 0.001 0.001" />
            </geometry>
        </collision>
    </link>
    <joint name="crisp_4_j1" type="revolute">
        <origin rpy="0 0 0" xyz="0.000152 -4.1e-05 0.09" />
        <parent link="crisp_4_base_link" />
        <child link="crisp_4_shoulder_link" />
        <axis xyz="0.0 0.0 1.0" />
        <limit effort="9.2" lower="-6.283185307179586" upper="6.283185307179586" velocity="3.5" />
    </joint>
    <joint name="crisp_4_j2" type="revolute">
        <origin rpy="0 0 0" xyz="0.0 -0.06 0.05" />
        <parent link="crisp_4_shoulder_link" />
        <child link="crisp_4_shoulder_bend" />
        <axis xyz="0.0 -1.0 -0.0" />
        <limit effort="9.2" lower="-6.283185307179586" upper="6.283185307179586" velocity="3.5" />
    </joint>
    <joint name="crisp_4_Rigid 5" type="fixed">
        <origin rpy="0 0 0" xyz="0.0 -0.050001 0.062" />
        <parent link="crisp_4_shoulder_bend" />
        <child link="crisp_4_tube1" />
    </joint>
    <joint name="crisp_4_Rigid 6" type="fixed">
        <origin rpy="0 0 0" xyz="0.0 0.0 0.168" />
        <parent link="crisp_4_tube1" />
        <child link="crisp_4_elbow_link" />
    </joint>
    <joint name="crisp_4_j3" type="revolute">
        <origin rpy="0 0 0" xyz="0.0 0.060001 0.061801" />
        <parent link="crisp_4_elbow_link" />
        <child link="crisp_4_elbow_bend" />
        <axis xyz="-0.0 1.0 0.0" />
        <limit effort="9.2" lower="-6.283185307179586" upper="6.283185307179586" velocity="3.5" />
    </joint>
    <joint name="crisp_4_Rigid 8" type="fixed">
        <origin rpy="0 0 0" xyz="-4.1e-05 0.04 -0.061211" />
        <parent link="crisp_4_elbow_bend" />
        <child link="crisp_4_tube2" />
    </joint>
    <joint name="crisp_4_Rigid 9" type="fixed">
        <origin rpy="0 0 0" xyz="0.0 0.0 -0.091" />
        <parent link="crisp_4_tube2" />
        <child link="crisp_4_wrist_link1" />
    </joint>
    <joint name="crisp_4_j4" type="revolute">
        <origin rpy="0 0 0" xyz="0.0 0.0349 -0.041" />
        <parent link="crisp_4_wrist_link1" />
        <child link="crisp_4_wrist_link2" />
        <axis xyz="-0.0 1.0 0.0" />
        <limit effort="3.3" lower="-6.283185307179586" upper="6.283185307179586" velocity="3.2" />
    </joint>
    <joint name="crisp_4_j5" type="revolute">
        <origin rpy="0 0 0" xyz="0.0 0.04 0.0349" />
        <parent link="crisp_4_wrist_link2" />
        <child link="crisp_4_wrist_link3" />
        <axis xyz="-0.0 0.0 1.0" />
        <limit effort="3.3" lower="-6.283185307179586" upper="6.283185307179586" velocity="3.2" />
    </joint>
    <joint name="crisp_4_j6" type="revolute">
        <origin rpy="0 0 0" xyz="0.0 0.035 0.04" />
        <parent link="crisp_4_wrist_link3" />
        <child link="crisp_4_ee_mount" />
        <axis xyz="-0.0 -1.0 -0.0" />
        <limit effort="3.3" lower="-6.283185307179586" upper="6.283185307179586" velocity="3.2" />
    </joint>
    // Base for robots
    <!-- start of conveyor base description-->
    <!-- start of conveyor base description-->
    <!-- start of conveyor base description-->
    <link name="world" />
    <!-- box shaped Conveyor -->
    <link name="conveyor">
        <visual>
            <origin rpy="0 0 0" xyz="0 0 0.453" />
            <geometry>
                <box size=".565 2 .906" />
            </geometry>
            <material name="Blue">
                <color rgba="0.0 0.0 0.9 1.0" />
            </material>
        </visual>
        <collision>
            <origin rpy="0 0 0" xyz="0 0 0.453" />
            <geometry>
                <box size=".565 2 .906" />
            </geometry>
        </collision>
        <inertial>
            <origin rpy="0.0 0.0 0.0" xyz="0.0 0.0 0.0" />
            <mass value="100.0" />
            <inertia ixx="0.001" ixy="0.0" ixz="0.001" iyy="0.0" iyz="0.0" izz="0.001" />
        </inertial>
    </link>
    <joint name="conveyor_to_world" type="fixed">
        <parent link="world" />
        <child link="conveyor" />
        <origin rpy="0.0 0.0 0.0" xyz="0.0 0.0 0.0" />
    </joint>
    <!-- box shaped mount as base for the Crisp Arm 1 -->
    <link name="base1">
        <visual>
            <origin rpy="0 0 0" xyz="0.3475 0.750 0.881" />
            <geometry>
                <box size=".13 .13 .05" />
            </geometry>
            <material name="Red">
                <color rgba="0.9 0.0 0.0 1.0" />
            </material>
        </visual>
        <collision>
            <origin rpy="0 0 0" xyz="0.3475 0.750 0.881" />
            <geometry>
                <box size="0.13 0.13 0.05" />
            </geometry>
        </collision>
        <inertial>
            <origin rpy="0.0 0.0 0.0" xyz="0.0 0.0 0.0" />
            <mass value="5" />
            <inertia ixx="0.001" ixy="0.0" ixz="0.001" iyy="0.0" iyz="0.0" izz="0.001" />
        </inertial>
    </link>
    <joint name="base1_to_conveyor" type="fixed">
        <parent link="conveyor" />
        <child link="base1" />
        <origin rpy="0.0 0.0 0.0" xyz="0.0 0.0 0.0" />
    </joint>
    <!-- box shaped mount as base for the Crisp Arm 2 -->
    <link name="base2">
        <visual>
            <origin rpy="0 0 0" xyz="0.3475 -0.250 0.881" />
            <geometry>
                <box size=".13 .13 .05" />
            </geometry>
            <material name="Red">
                <color rgba="0.9 0.0 0.0 1.0" />
            </material>
        </visual>
        <collision>
            <origin rpy="0 0 0" xyz="0.3475 -0.250 0.881" />
            <geometry>
                <box size="0.13 0.13 0.05" />
            </geometry>
        </collision>
        <inertial>
            <origin rpy="0.0 0.0 0.0" xyz="0.0 0.0 0.0" />
            <mass value="5" />
            <inertia ixx="0.001" ixy="0.0" ixz="0.001" iyy="0.0" iyz="0.0" izz="0.001" />
        </inertial>
    </link>
    <joint name="base2_to_conveyor" type="fixed">
        <parent link="conveyor" />
        <child link="base2" />
        <origin rpy="0.0 0.0 0.0" xyz="0.0 0.0 0.0" />
    </joint>
    <!-- box shaped mount as base for the Crisp Arm 3 -->
    <link name="base3">
        <visual>
            <origin rpy="0 0 0" xyz="-0.3475 0.250 0.881" />
            <geometry>
                <box size=".13 .13 .05" />
            </geometry>
            <material name="Red">
                <color rgba="0.9 0.0 0.0 1.0" />
            </material>
        </visual>
        <collision>
            <origin rpy="0 0 0" xyz="-0.3475 0.250 0.881" />
            <geometry>
                <box size="0.13 0.13 0.05" />
            </geometry>
        </collision>
        <inertial>
            <origin rpy="0.0 0.0 0.0" xyz="0.0 0.0 0.0" />
            <mass value="5" />
            <inertia ixx="0.001" ixy="0.0" ixz="0.001" iyy="0.0" iyz="0.0" izz="0.001" />
        </inertial>
    </link>
    <joint name="base3_to_conveyor" type="fixed">
        <parent link="conveyor" />
        <child link="base3" />
        <origin rpy="0.0 0.0 0.0" xyz="0.0 0.0 0.0" />
    </joint>
    <!-- box shaped mount as base for the Crisp Arm 4 -->
    <link name="base4">
        <visual>
            <origin rpy="0 0 0" xyz="-0.3475 -0.750 0.881" />
            <geometry>
                <box size=".13 .13 .05" />
            </geometry>
            <material name="Red">
                <color rgba="0.9 0.0 0.0 1.0" />
            </material>
        </visual>
        <collision>
            <origin rpy="0 0 0" xyz="-0.3475 -0.750 0.881" />
            <geometry>
                <box size="0.13 0.13 0.05" />
            </geometry>
        </collision>
        <inertial>
            <origin rpy="0.0 0.0 0.0" xyz="0.0 0.0 0.0" />
            <mass value="5" />
            <inertia ixx="0.001" ixy="0.0" ixz="0.001" iyy="0.0" iyz="0.0" izz="0.001" />
        </inertial>
    </link>
    <joint name="base4_to_conveyor" type="fixed">
        <parent link="conveyor" />
        <child link="base4" />
        <origin rpy="0.0 0.0 0.0" xyz="0.0 0.0 0.0" />
    </joint>
    <!-- end of conveyor base description-->
    <!-- end of conveyor base description-->
    <!-- end of conveyor base description-->
    // Add Proper links and Joints to World Frame and multiple arms
    <joint name="world_arm_1" type="fixed">
        <parent link="base1" />
        <child link="crisp_1_base_link" />
        <origin rpy="0.0 0.0 1.57" xyz="0.3475 0.750 0.906" />
    </joint>
    <joint name="world_arm_2" type="fixed">
        <parent link="base2" />
        <child link="crisp_2_base_link" />
        <origin rpy="0.0 0.0 1.57" xyz="0.3475 -0.250 .906" />
    </joint>
    <joint name="world_arm_3" type="fixed">
        <parent link="base3" />
        <child link="crisp_3_base_link" />
        <origin rpy="0.0 0.0 1.57" xyz="-0.3475 0.250 0.906" />
    </joint>
    <joint name="world_arm_4" type="fixed">
        <parent link="base4" />
        <child link="crisp_4_base_link" />
        <origin rpy="0.0 0.0 1.57" xyz="-0.3475 -0.750 .906" />
    </joint>
    <transmission name="trans_crisp_1_j1">
        <type>transmission_interface/SimpleTransmission</type>
        <joint name="crisp_1_j1">
            <hardwareInterface>hardware_interface/EffortJointInterface</hardwareInterface>
        </joint>
        <actuator name="crisp_1_j1_motor">
            <hardwareInterface>hardware_interface/EffortJointInterface</hardwareInterface>
            <mechanicalReduction>1</mechanicalReduction>
        </actuator>
    </transmission>
    <transmission name="trans_crisp_1_j2">
        <type>transmission_interface/SimpleTransmission</type>
        <joint name="crisp_1_j2">
            <hardwareInterface>hardware_interface/EffortJointInterface</hardwareInterface>
        </joint>
        <actuator name="crisp_1_j2_motor">
            <hardwareInterface>hardware_interface/EffortJointInterface</hardwareInterface>
            <mechanicalReduction>1</mechanicalReduction>
        </actuator>
    </transmission>
    <transmission name="trans_crisp_1_j3">
        <type>transmission_interface/SimpleTransmission</type>
        <joint name="crisp_1_j3">
            <hardwareInterface>hardware_interface/EffortJointInterface</hardwareInterface>
        </joint>
        <actuator name="crisp_1_j3_motor">
            <hardwareInterface>hardware_interface/EffortJointInterface</hardwareInterface>
            <mechanicalReduction>1</mechanicalReduction>
        </actuator>
    </transmission>
    <transmission name="trans_crisp_1_j4">
        <type>transmission_interface/SimpleTransmission</type>
        <joint name="crisp_1_j4">
            <hardwareInterface>hardware_interface/EffortJointInterface</hardwareInterface>
        </joint>
        <actuator name="crisp_1_j4_motor">
            <hardwareInterface>hardware_interface/EffortJointInterface</hardwareInterface>
            <mechanicalReduction>1</mechanicalReduction>
        </actuator>
    </transmission>
    <transmission name="trans_crisp_1_j5">
        <type>transmission_interface/SimpleTransmission</type>
        <joint name="crisp_1_j5">
            <hardwareInterface>hardware_interface/EffortJointInterface</hardwareInterface>
        </joint>
        <actuator name="crisp_1_j5_motor">
            <hardwareInterface>hardware_interface/EffortJointInterface</hardwareInterface>
            <mechanicalReduction>1</mechanicalReduction>
        </actuator>
    </transmission>
    <transmission name="trans_crisp_1_j6">
        <type>transmission_interface/SimpleTransmission</type>
        <joint name="crisp_1_j6">
            <hardwareInterface>hardware_interface/EffortJointInterface</hardwareInterface>
        </joint>
        <actuator name="crisp_1_j6_motor">
            <hardwareInterface>hardware_interface/EffortJointInterface</hardwareInterface>
            <mechanicalReduction>1</mechanicalReduction>
        </actuator>
    </transmission>
    <transmission name="trans_crisp_2_j1">
        <type>transmission_interface/SimpleTransmission</type>
        <joint name="crisp_2_j1">
            <hardwareInterface>hardware_interface/EffortJointInterface</hardwareInterface>
        </joint>
        <actuator name="crisp_2_j1_motor">
            <hardwareInterface>hardware_interface/EffortJointInterface</hardwareInterface>
            <mechanicalReduction>1</mechanicalReduction>
        </actuator>
    </transmission>
    <transmission name="trans_crisp_2_j2">
        <type>transmission_interface/SimpleTransmission</type>
        <joint name="crisp_2_j2">
            <hardwareInterface>hardware_interface/EffortJointInterface</hardwareInterface>
        </joint>
        <actuator name="crisp_2_j2_motor">
            <hardwareInterface>hardware_interface/EffortJointInterface</hardwareInterface>
            <mechanicalReduction>1</mechanicalReduction>
        </actuator>
    </transmission>
    <transmission name="trans_crisp_2_j3">
        <type>transmission_interface/SimpleTransmission</type>
        <joint name="crisp_2_j3">
            <hardwareInterface>hardware_interface/EffortJointInterface</hardwareInterface>
        </joint>
        <actuator name="crisp_2_j3_motor">
            <hardwareInterface>hardware_interface/EffortJointInterface</hardwareInterface>
            <mechanicalReduction>1</mechanicalReduction>
        </actuator>
    </transmission>
    <transmission name="trans_crisp_2_j4">
        <type>transmission_interface/SimpleTransmission</type>
        <joint name="crisp_2_j4">
            <hardwareInterface>hardware_interface/EffortJointInterface</hardwareInterface>
        </joint>
        <actuator name="crisp_2_j4_motor">
            <hardwareInterface>hardware_interface/EffortJointInterface</hardwareInterface>
            <mechanicalReduction>1</mechanicalReduction>
        </actuator>
    </transmission>
    <transmission name="trans_crisp_2_j5">
        <type>transmission_interface/SimpleTransmission</type>
        <joint name="crisp_2_j5">
            <hardwareInterface>hardware_interface/EffortJointInterface</hardwareInterface>
        </joint>
        <actuator name="crisp_2_j5_motor">
            <hardwareInterface>hardware_interface/EffortJointInterface</hardwareInterface>
            <mechanicalReduction>1</mechanicalReduction>
        </actuator>
    </transmission>
    <transmission name="trans_crisp_2_j6">
        <type>transmission_interface/SimpleTransmission</type>
        <joint name="crisp_2_j6">
            <hardwareInterface>hardware_interface/EffortJointInterface</hardwareInterface>
        </joint>
        <actuator name="crisp_2_j6_motor">
            <hardwareInterface>hardware_interface/EffortJointInterface</hardwareInterface>
            <mechanicalReduction>1</mechanicalReduction>
        </actuator>
    </transmission>
    <transmission name="trans_crisp_3_j1">
        <type>transmission_interface/SimpleTransmission</type>
        <joint name="crisp_3_j1">
            <hardwareInterface>hardware_interface/EffortJointInterface</hardwareInterface>
        </joint>
        <actuator name="crisp_3_j1_motor">
            <hardwareInterface>hardware_interface/EffortJointInterface</hardwareInterface>
            <mechanicalReduction>1</mechanicalReduction>
        </actuator>
    </transmission>
    <transmission name="trans_crisp_3_j2">
        <type>transmission_interface/SimpleTransmission</type>
        <joint name="crisp_3_j2">
            <hardwareInterface>hardware_interface/EffortJointInterface</hardwareInterface>
        </joint>
        <actuator name="crisp_3_j2_motor">
            <hardwareInterface>hardware_interface/EffortJointInterface</hardwareInterface>
            <mechanicalReduction>1</mechanicalReduction>
        </actuator>
    </transmission>
    <transmission name="trans_crisp_3_j3">
        <type>transmission_interface/SimpleTransmission</type>
        <joint name="crisp_3_j3">
            <hardwareInterface>hardware_interface/EffortJointInterface</hardwareInterface>
        </joint>
        <actuator name="crisp_3_j3_motor">
            <hardwareInterface>hardware_interface/EffortJointInterface</hardwareInterface>
            <mechanicalReduction>1</mechanicalReduction>
        </actuator>
    </transmission>
    <transmission name="trans_crisp_3_j4">
        <type>transmission_interface/SimpleTransmission</type>
        <joint name="crisp_3_j4">
            <hardwareInterface>hardware_interface/EffortJointInterface</hardwareInterface>
        </joint>
        <actuator name="crisp_3_j4_motor">
            <hardwareInterface>hardware_interface/EffortJointInterface</hardwareInterface>
            <mechanicalReduction>1</mechanicalReduction>
        </actuator>
    </transmission>
    <transmission name="trans_crisp_3_j5">
        <type>transmission_interface/SimpleTransmission</type>
        <joint name="crisp_3_j5">
            <hardwareInterface>hardware_interface/EffortJointInterface</hardwareInterface>
        </joint>
        <actuator name="crisp_3_j5_motor">
            <hardwareInterface>hardware_interface/EffortJointInterface</hardwareInterface>
            <mechanicalReduction>1</mechanicalReduction>
        </actuator>
    </transmission>
    <transmission name="trans_crisp_3_j6">
        <type>transmission_interface/SimpleTransmission</type>
        <joint name="crisp_3_j6">
            <hardwareInterface>hardware_interface/EffortJointInterface</hardwareInterface>
        </joint>
        <actuator name="crisp_3_j6_motor">
            <hardwareInterface>hardware_interface/EffortJointInterface</hardwareInterface>
            <mechanicalReduction>1</mechanicalReduction>
        </actuator>
    </transmission>
    <transmission name="trans_crisp_4_j1">
        <type>transmission_interface/SimpleTransmission</type>
        <joint name="crisp_4_j1">
            <hardwareInterface>hardware_interface/EffortJointInterface</hardwareInterface>
        </joint>
        <actuator name="crisp_4_j1_motor">
            <hardwareInterface>hardware_interface/EffortJointInterface</hardwareInterface>
            <mechanicalReduction>1</mechanicalReduction>
        </actuator>
    </transmission>
    <transmission name="trans_crisp_4_j2">
        <type>transmission_interface/SimpleTransmission</type>
        <joint name="crisp_4_j2">
            <hardwareInterface>hardware_interface/EffortJointInterface</hardwareInterface>
        </joint>
        <actuator name="crisp_4_j2_motor">
            <hardwareInterface>hardware_interface/EffortJointInterface</hardwareInterface>
            <mechanicalReduction>1</mechanicalReduction>
        </actuator>
    </transmission>
    <transmission name="trans_crisp_4_j3">
        <type>transmission_interface/SimpleTransmission</type>
        <joint name="crisp_4_j3">
            <hardwareInterface>hardware_interface/EffortJointInterface</hardwareInterface>
        </joint>
        <actuator name="crisp_4_j3_motor">
            <hardwareInterface>hardware_interface/EffortJointInterface</hardwareInterface>
            <mechanicalReduction>1</mechanicalReduction>
        </actuator>
    </transmission>
    <transmission name="trans_crisp_4_j4">
        <type>transmission_interface/SimpleTransmission</type>
        <joint name="crisp_4_j4">
            <hardwareInterface>hardware_interface/EffortJointInterface</hardwareInterface>
        </joint>
        <actuator name="crisp_4_j4_motor">
            <hardwareInterface>hardware_interface/EffortJointInterface</hardwareInterface>
            <mechanicalReduction>1</mechanicalReduction>
        </actuator>
    </transmission>
    <transmission name="trans_crisp_4_j5">
        <type>transmission_interface/SimpleTransmission</type>
        <joint name="crisp_4_j5">
            <hardwareInterface>hardware_interface/EffortJointInterface</hardwareInterface>
        </joint>
        <actuator name="crisp_4_j5_motor">
            <hardwareInterface>hardware_interface/EffortJointInterface</hardwareInterface>
            <mechanicalReduction>1</mechanicalReduction>
        </actuator>
    </transmission>
    <transmission name="trans_crisp_4_j6">
        <type>transmission_interface/SimpleTransmission</type>
        <joint name="crisp_4_j6">
            <hardwareInterface>hardware_interface/EffortJointInterface</hardwareInterface>
        </joint>
        <actuator name="crisp_4_j6_motor">
            <hardwareInterface>hardware_interface/EffortJointInterface</hardwareInterface>
            <mechanicalReduction>1</mechanicalReduction>
        </actuator>
    </transmission>
    <gazebo>
        <plugin name="gazebo_ros_control">
            <robotNamespace>/</robotNamespace>
        </plugin>
    </gazebo>
</robot>
